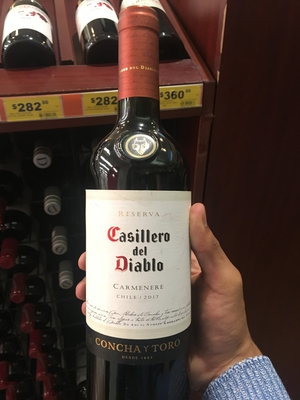casillero del diablo carmenere: (74, 14, 208, 400)
